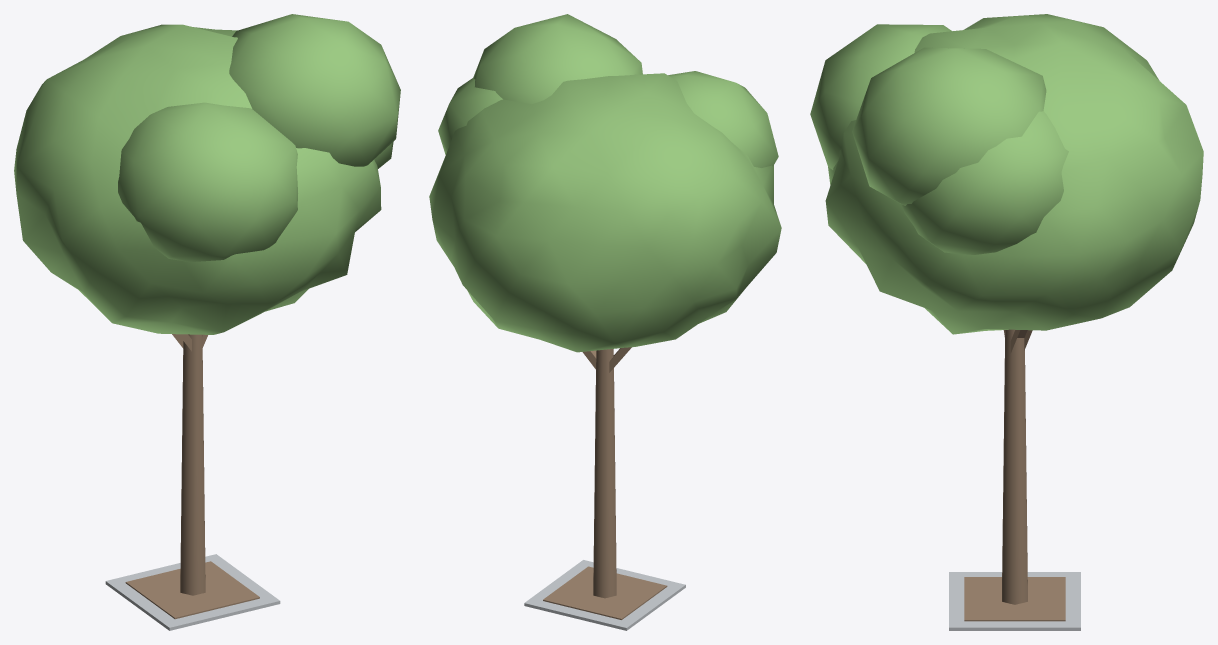
The model's file is tree_street_b.glb.
3 renders of one model, left to right at view 1: azimuth 30°, elevation 25°; view 2: azimuth 150°, elevation 25°; view 3: azimuth 270°, elevation 25°, orthographic. The views are drawn at different scales.
Visible parts, largest first — view 1: tree_street_b; view 2: tree_street_b; view 3: tree_street_b.
Part boxes in pixels (x1=…): tree_street_b: x1=14, y1=14, x2=400, y2=630; tree_street_b: x1=429, y1=14, x2=781, y2=630; tree_street_b: x1=810, y1=14, x2=1203, y2=630.
Size of the model in its own units: 3.97 by 6.48 by 3.88.
